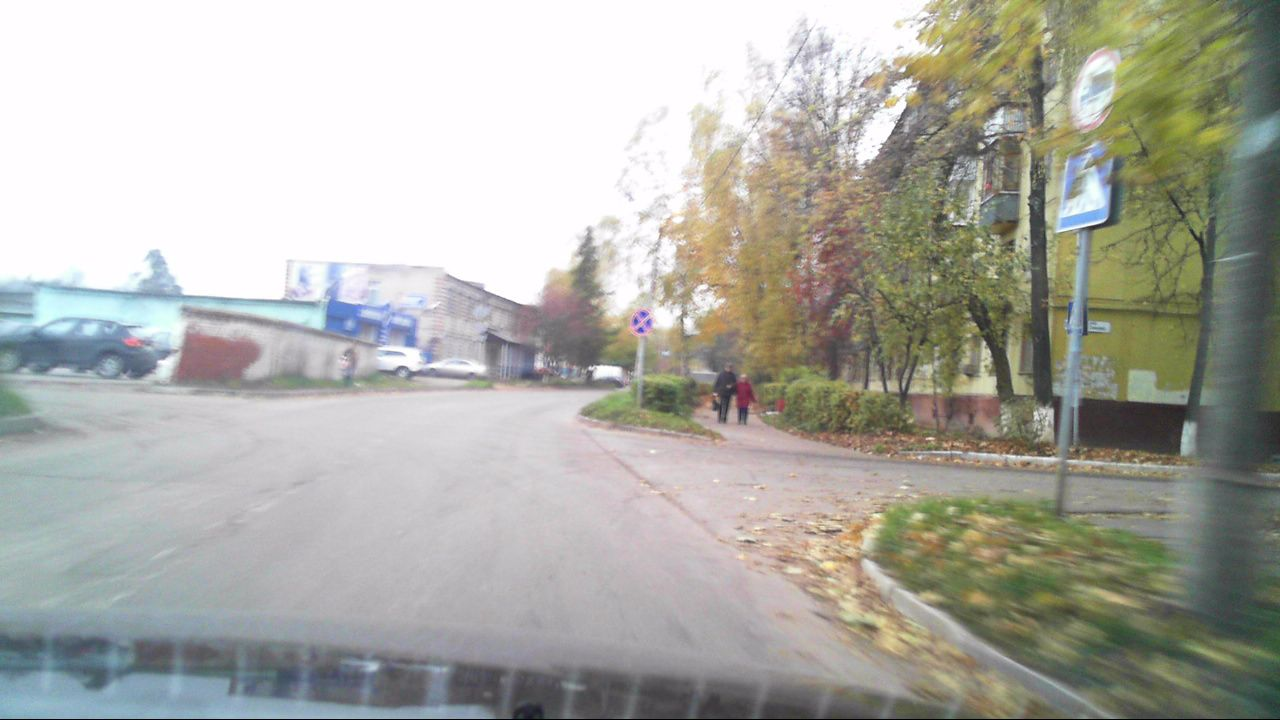No Parking: (628, 307, 653, 337)
